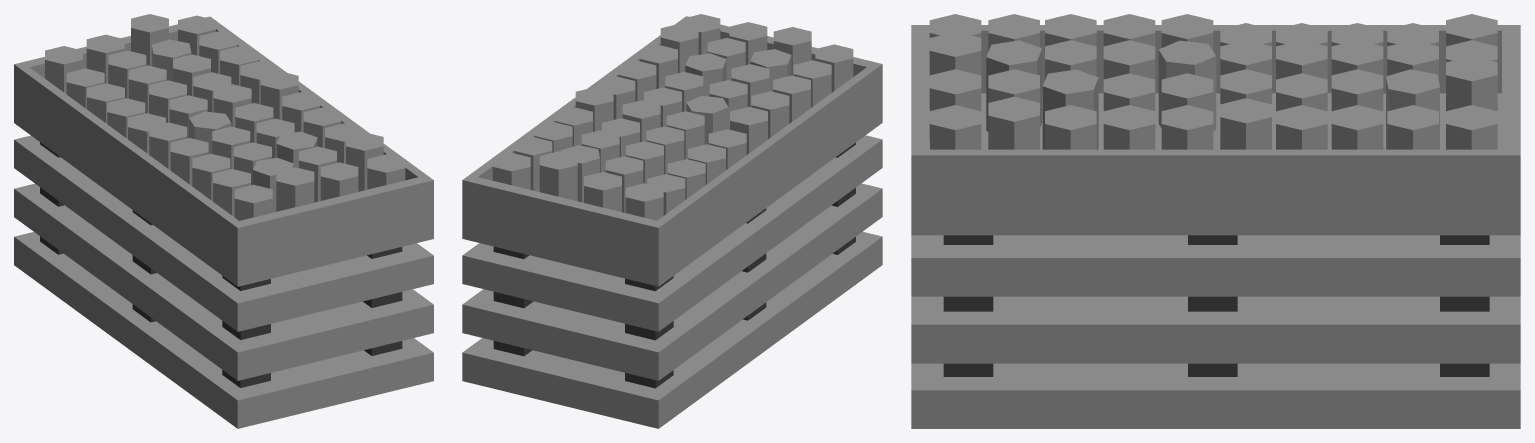
File: food_stack_G.FBX
The picture shows the model from 3 angles, left to right: view 1: azimuth 30°, elevation 25°; view 2: azimuth 150°, elevation 25°; view 3: azimuth 270°, elevation 25°; orthographic projection. The views are drawn at different scales.
Visible parts, largest first — view 1: food_stack_G; view 2: food_stack_G; view 3: food_stack_G.
Part boxes in pixels (x1,y1,x2,y2): food_stack_G: (14, 14, 433, 428); food_stack_G: (462, 14, 882, 428); food_stack_G: (911, 14, 1520, 428).
Bounding box in the file's own units: 39.77 × 43.84 × 78.58.
